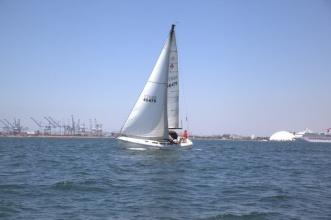fanchuan: (112, 22, 201, 156)
